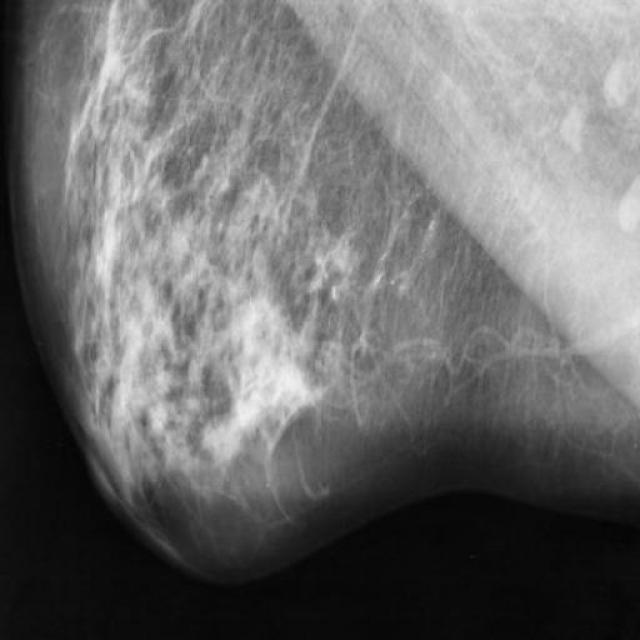cancer: (315, 326, 370, 402)
